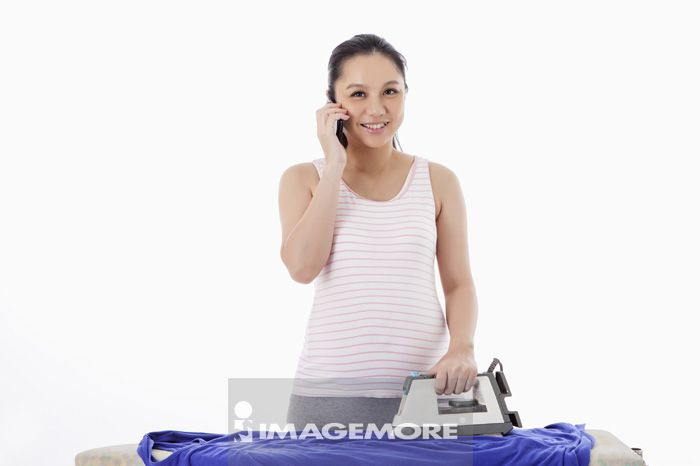talk: (314, 71, 403, 179)
